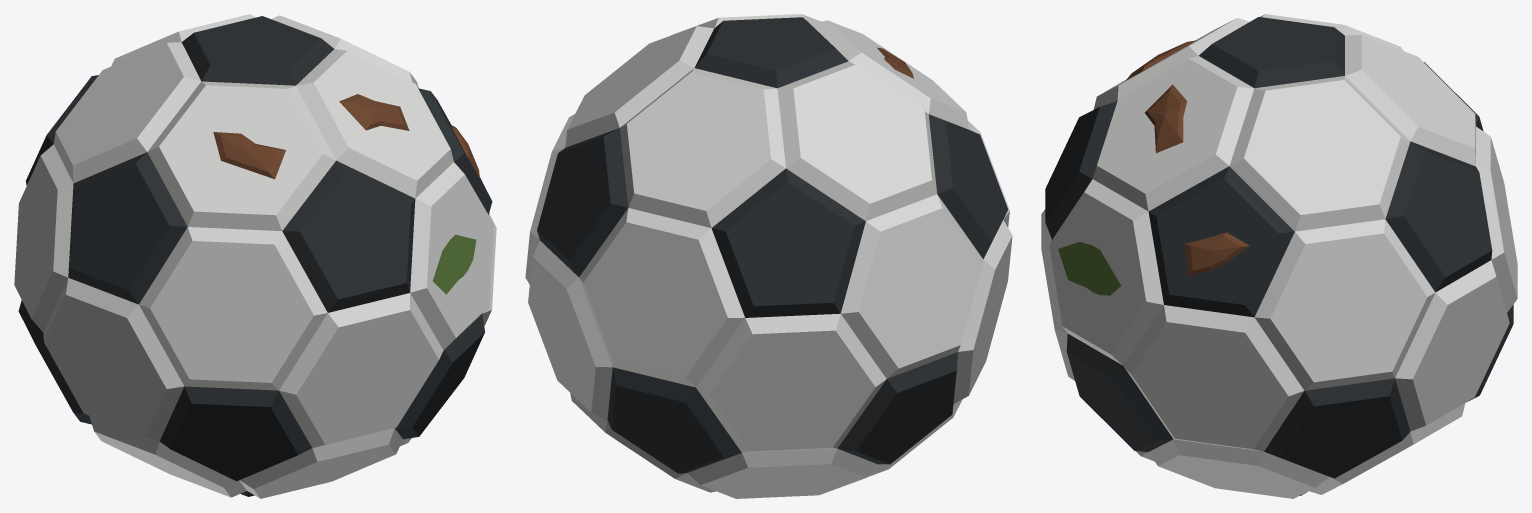
File: match-ball-0e675d.glb
The picture shows the model from 3 angles, left to right: view 1: azimuth 30°, elevation 25°; view 2: azimuth 150°, elevation 25°; view 3: azimuth 270°, elevation 25°; orthographic projection.
Parts seen in each view (by area): view 1: ball; view 2: ball; view 3: ball.
Boxes of the visible parts, left/top/right/bottom form: ball: left=14, top=14, right=496, bottom=498; ball: left=525, top=14, right=1012, bottom=498; ball: left=1041, top=14, right=1517, bottom=498.
Bounding box in the file's own units: 0.2204 × 0.216 × 0.2194.
